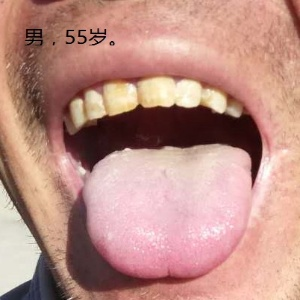st: (82, 157, 255, 276)
